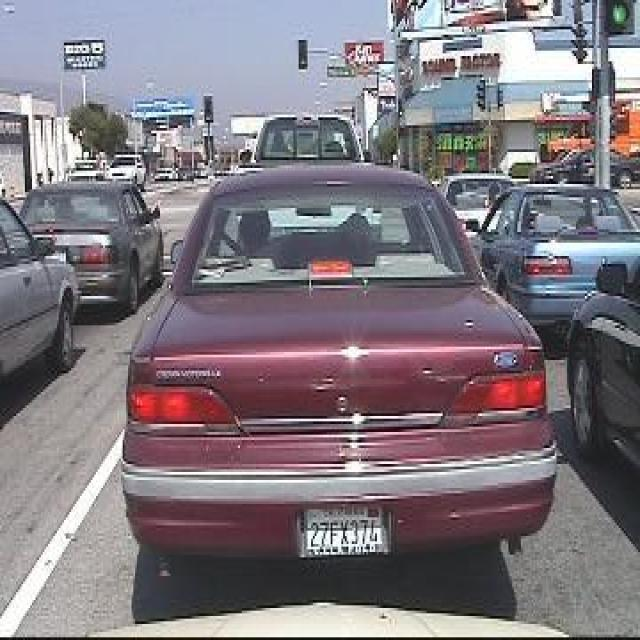car_back: (116, 152, 566, 574), (466, 175, 640, 338), (18, 175, 170, 318), (563, 237, 640, 518), (0, 183, 81, 407), (436, 166, 522, 237)
